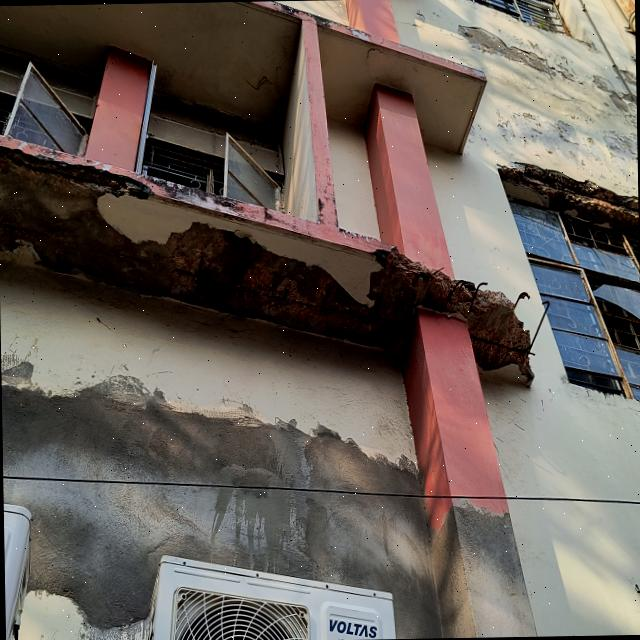peeling: (497, 109, 638, 196), (458, 25, 574, 81), (593, 75, 636, 111)
spalling: (1, 383, 535, 637), (0, 146, 529, 374)
stain_mould: (243, 1, 487, 81)
